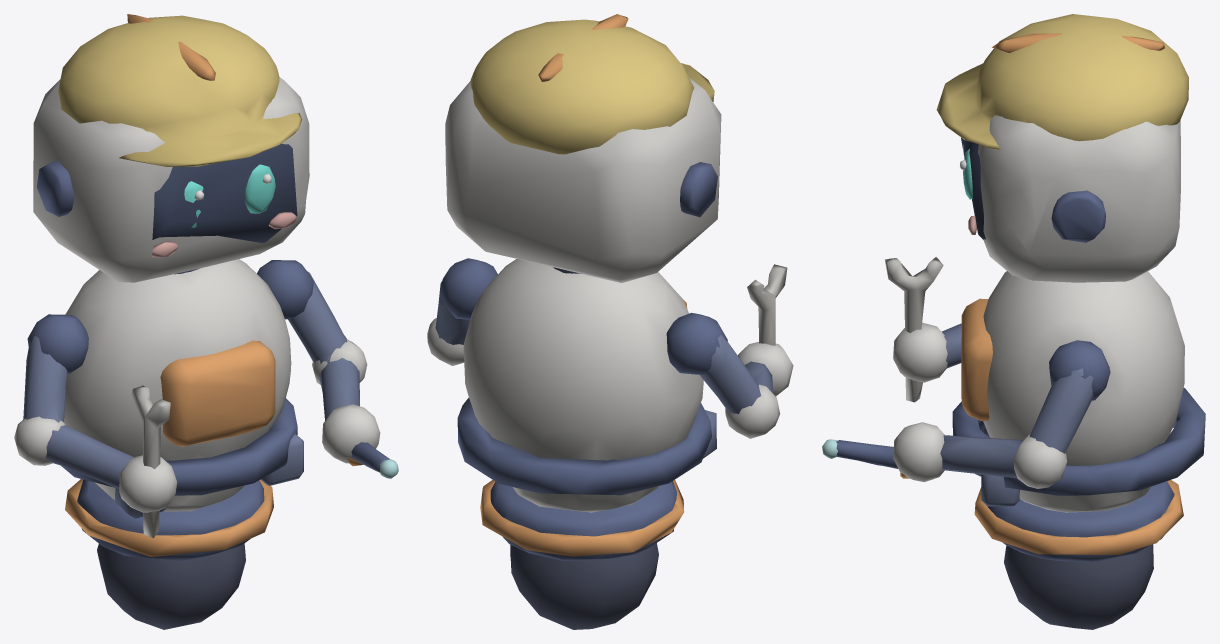
The model's file is mecano.glb.
3 renders of one model, left to right at view 1: azimuth 30°, elevation 25°; view 2: azimuth 150°, elevation 25°; view 3: azimuth 270°, elevation 25°, orthographic.
Visible parts, largest first — view 1: head, body, base, arm_r, arm_l, eyes_glow; view 2: head, body, base, arm_r, arm_l; view 3: head, body, base, arm_l, arm_r.
Boxes of the visible parts, x1,y1,x2,y2 form: head: (33, 14, 309, 282); body: (27, 259, 313, 518); base: (65, 479, 273, 629); arm_r: (14, 336, 177, 538); arm_l: (288, 271, 389, 472); eyes_glow: (184, 164, 275, 227); head: (445, 14, 721, 282); body: (440, 258, 727, 512); base: (480, 480, 684, 629); arm_r: (699, 264, 793, 438); arm_l: (427, 281, 469, 365); head: (936, 14, 1188, 282); body: (952, 271, 1205, 512); base: (974, 480, 1183, 629); arm_l: (836, 368, 1093, 488); arm_r: (884, 257, 961, 402).
Bounding box in the file's own units: 1.02 × 1.66 × 0.9769.
